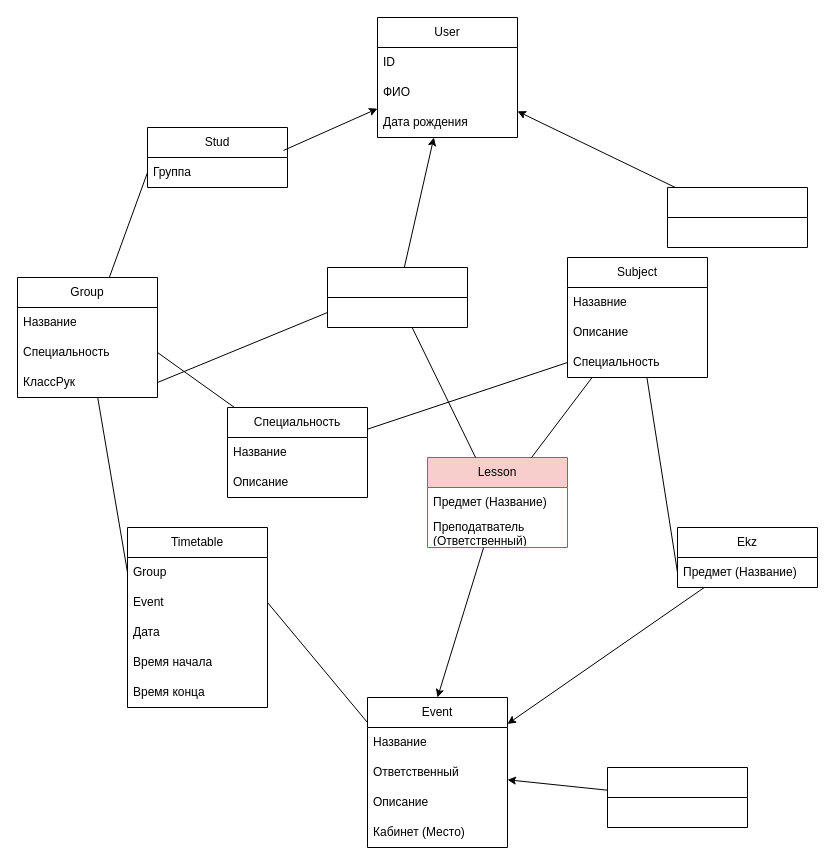
This 835x865 diagram has some shape labels left out. Each missing label, with the centre of its shape:
Admin: the point at 737,217
Mera: the point at 677,797
Prep: the point at 397,297
